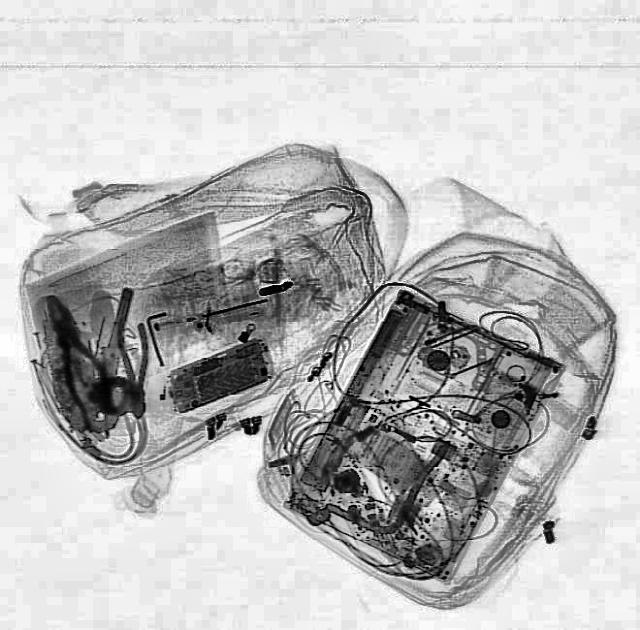Pliers: (30, 288, 120, 430), (112, 322, 156, 421)
